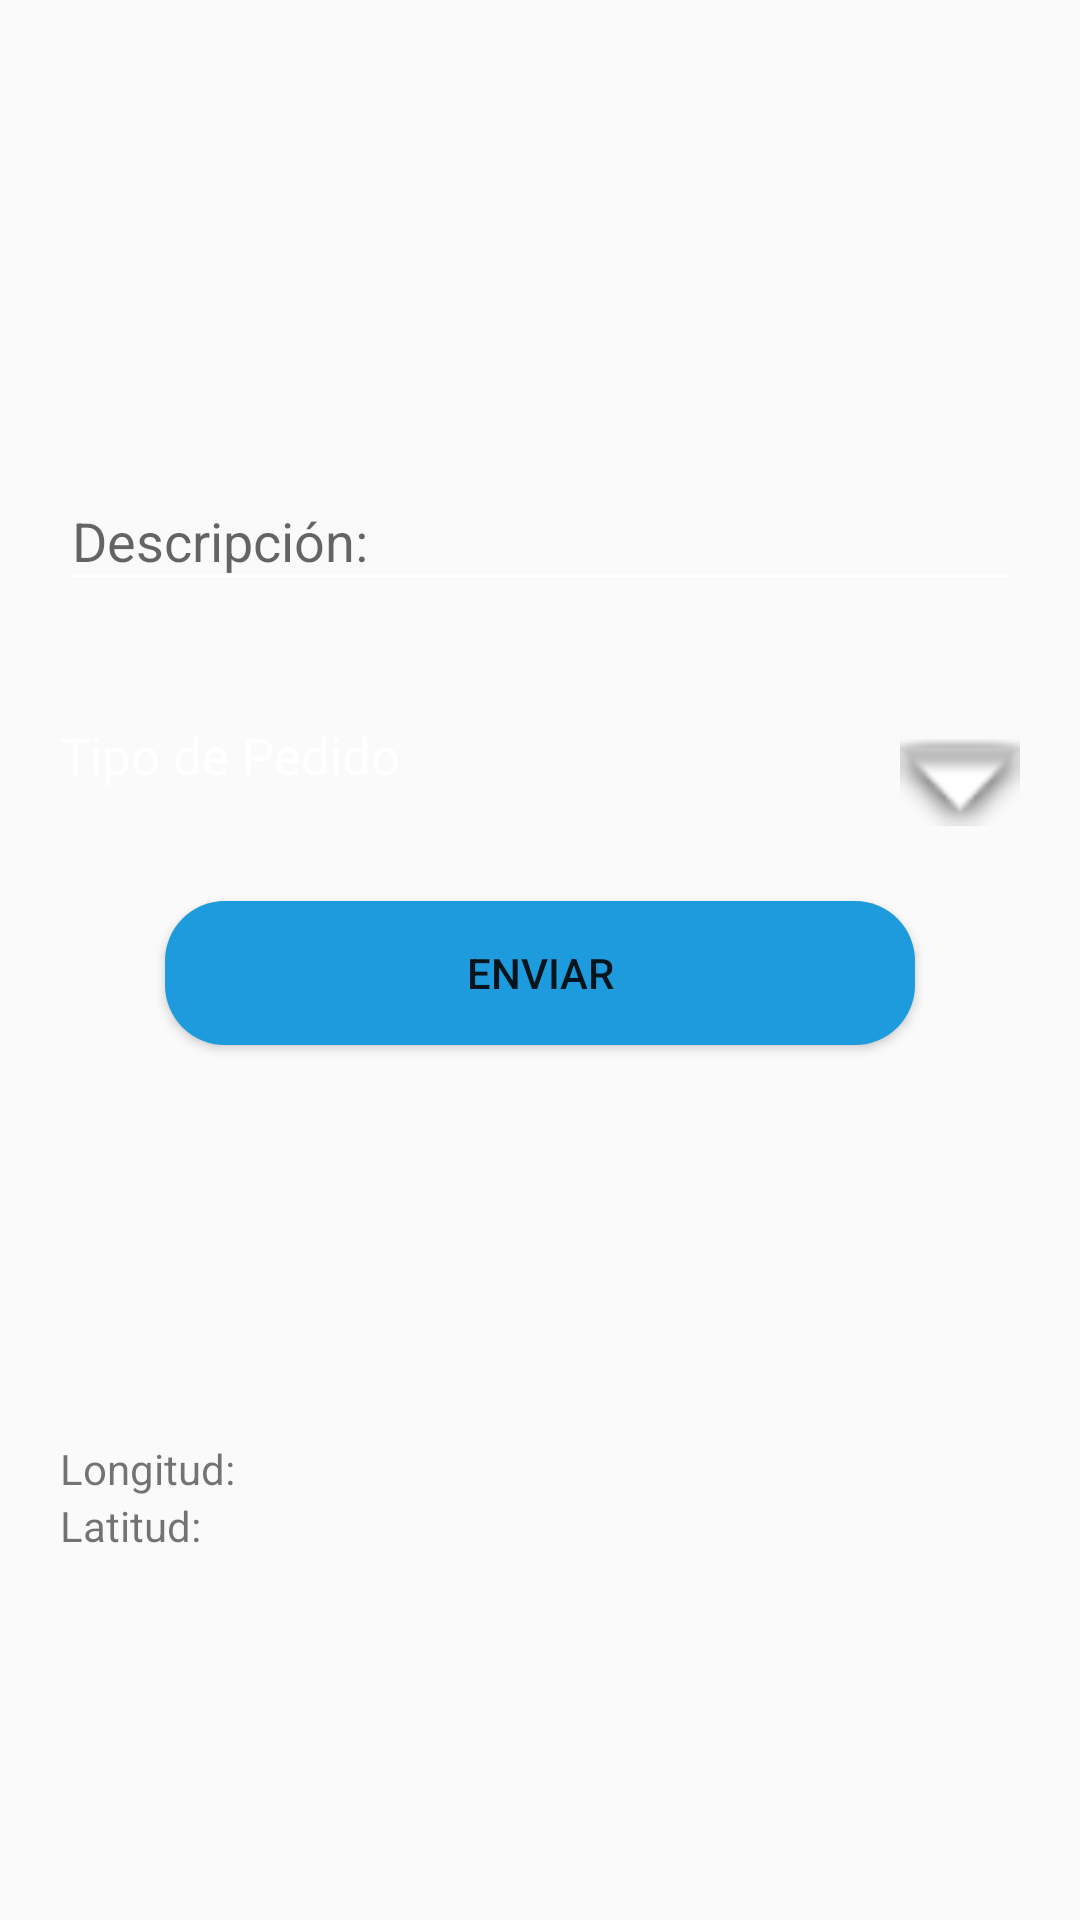

Icon click points for this 1080 x 1920 phone screenshot, format (x,y):
arrow down float: (960,782)
